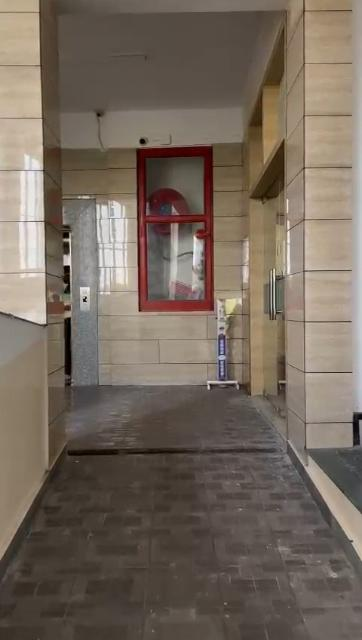floor: (0, 388, 362, 640)
wall: (47, 147, 248, 383), (282, 4, 361, 440), (0, 9, 52, 458)
